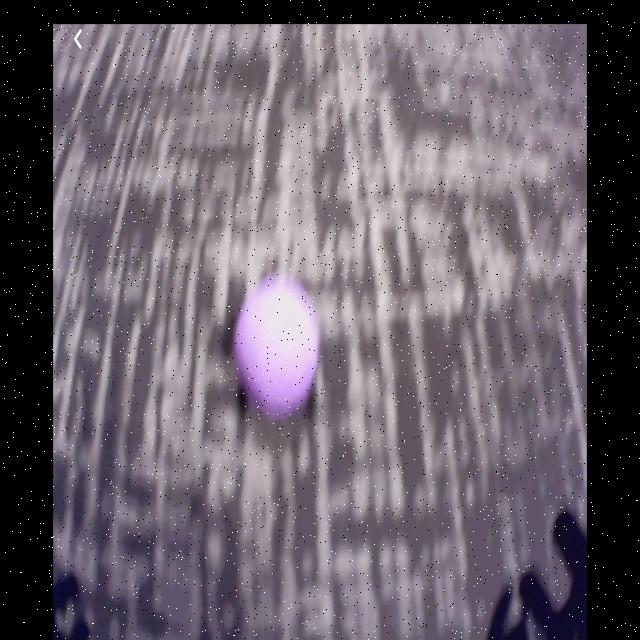ball: (237, 283, 319, 414)
